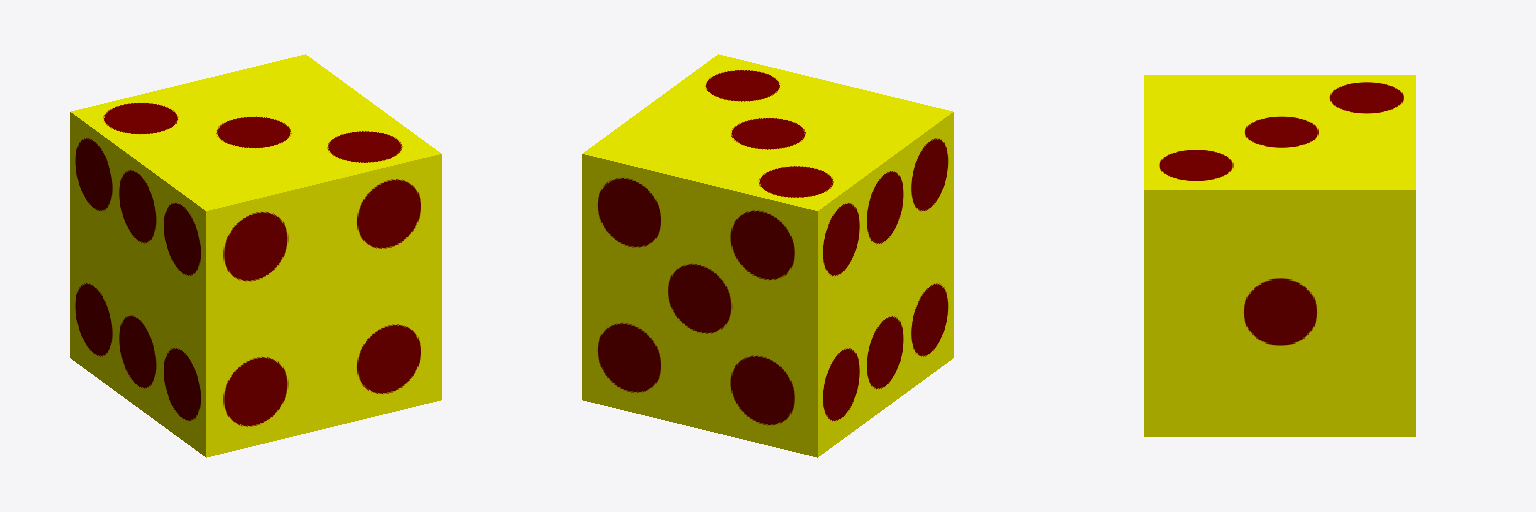
The picture shows the model from 3 angles: view 1: azimuth 30°, elevation 25°; view 2: azimuth 150°, elevation 25°; view 3: azimuth 270°, elevation 25°; orthographic projection.
Parts seen in each view (by area): view 1: Cube; view 2: Cube; view 3: Cube.
Boxes of the visible parts, box(x1,y1,x2,y2) form: Cube: box(70, 54, 441, 457); Cube: box(582, 54, 953, 457); Cube: box(1144, 75, 1415, 436).
Bounding box in the file's own units: 100 × 100 × 100.
Materials: 1 (1 with a texture image).